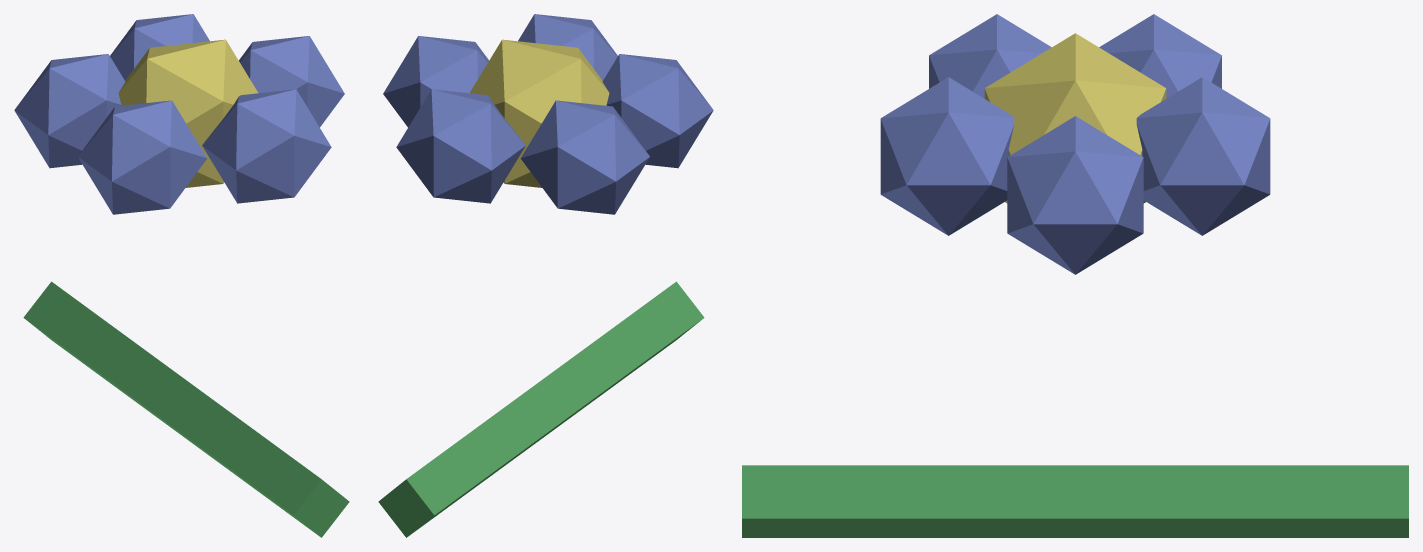
Rendered from flower_blue.glb.
3 views of the same model, side by side, from view 1: azimuth 30°, elevation 25°; view 2: azimuth 150°, elevation 25°; view 3: azimuth 270°, elevation 25° (orthographic). The views are drawn at different scales.
Parts seen in each view (by area): view 1: world; view 2: world; view 3: world.
Part boxes in pixels (left/top/right/bottom): world: left=14, top=14, right=349, bottom=537; world: left=378, top=14, right=713, bottom=537; world: left=742, top=14, right=1408, bottom=537.
Bounding box in the file's own units: 0.283 × 0.3981 × 0.5.
